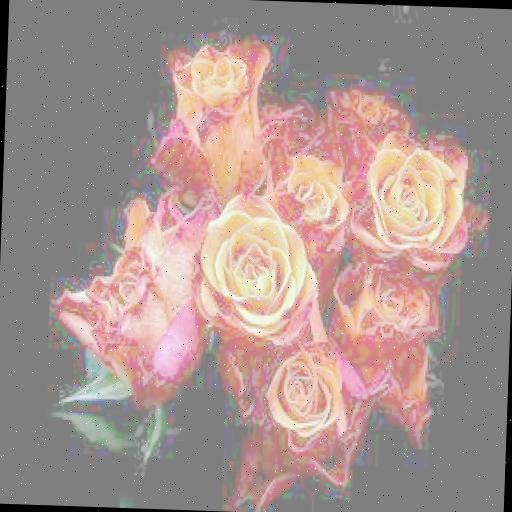rose: (54, 192, 200, 396), (200, 186, 317, 346), (162, 41, 279, 198), (350, 132, 468, 264), (328, 255, 442, 383), (272, 152, 345, 258), (267, 349, 342, 442)
